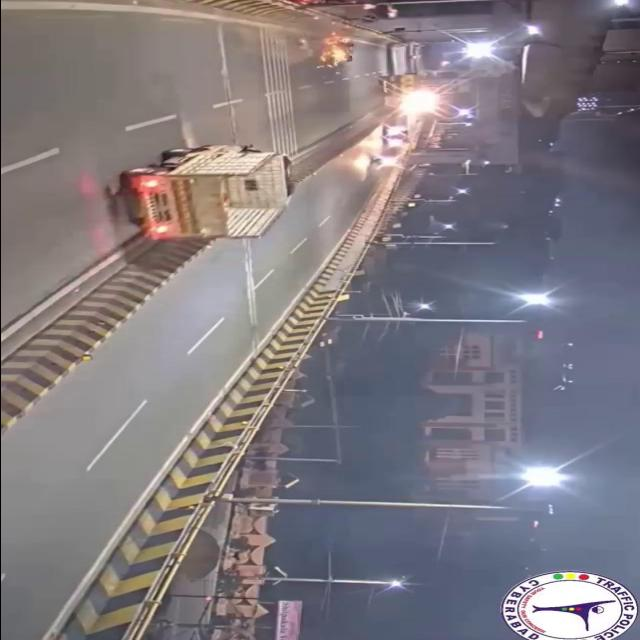accident: (308, 24, 364, 76)
